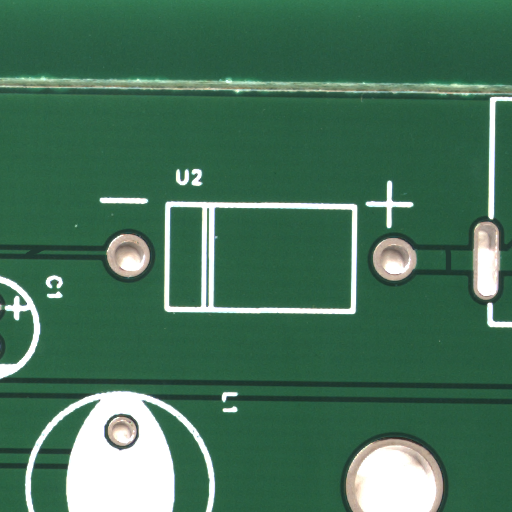Open_circuit: (35, 249, 53, 258), (448, 260, 455, 281)
